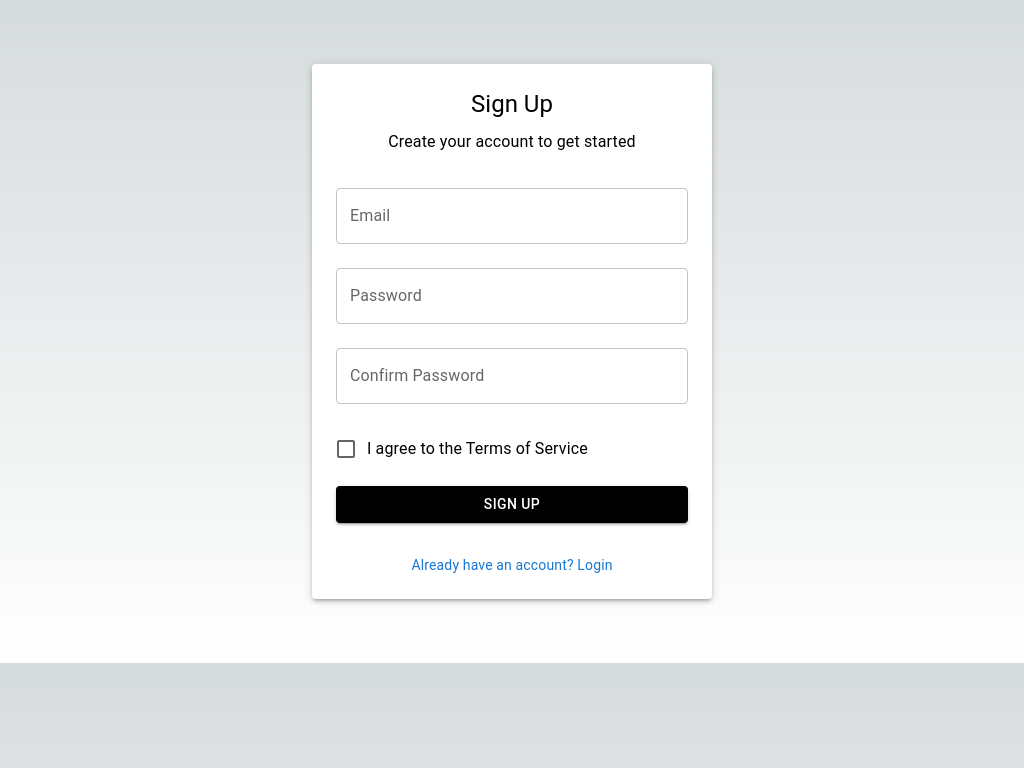
AuthForm Login Component - Negative Tests › 空のパスワードがエラーを引き起こす
Step 1. Type "test@example.com" into the field labelled "Email" → (512, 216), box [336, 188, 688, 244]
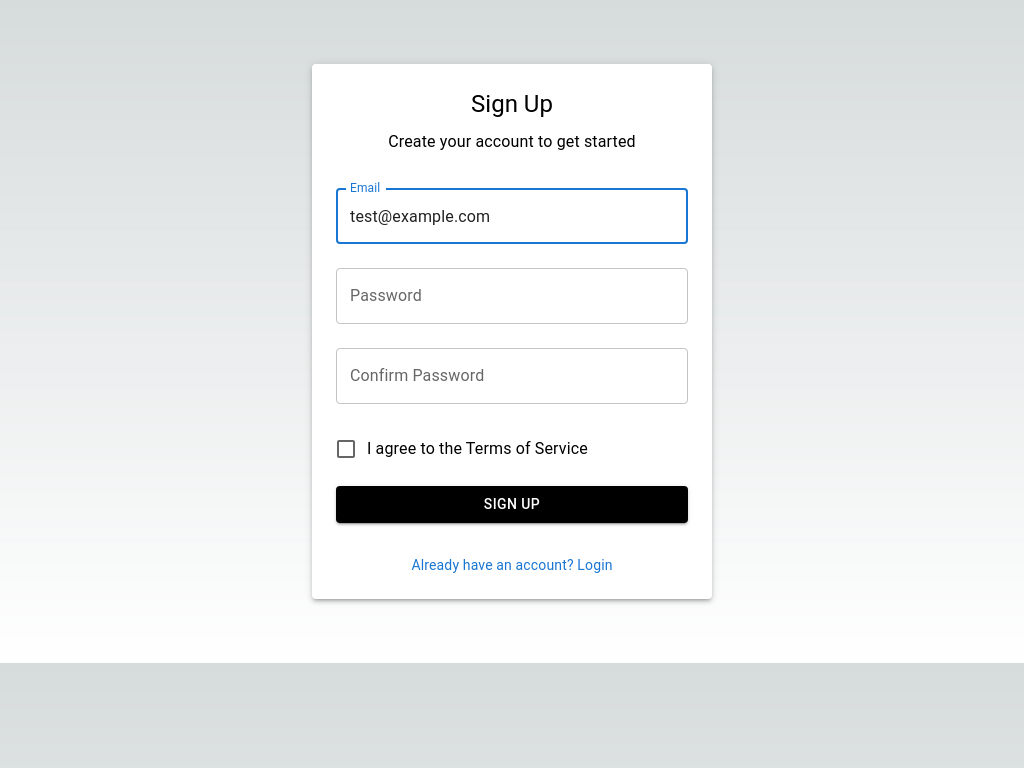
Note: パスワードを入力しない
Step 2. Click the button with test id "loginButton" → click(512, 505), box [336, 486, 688, 523]
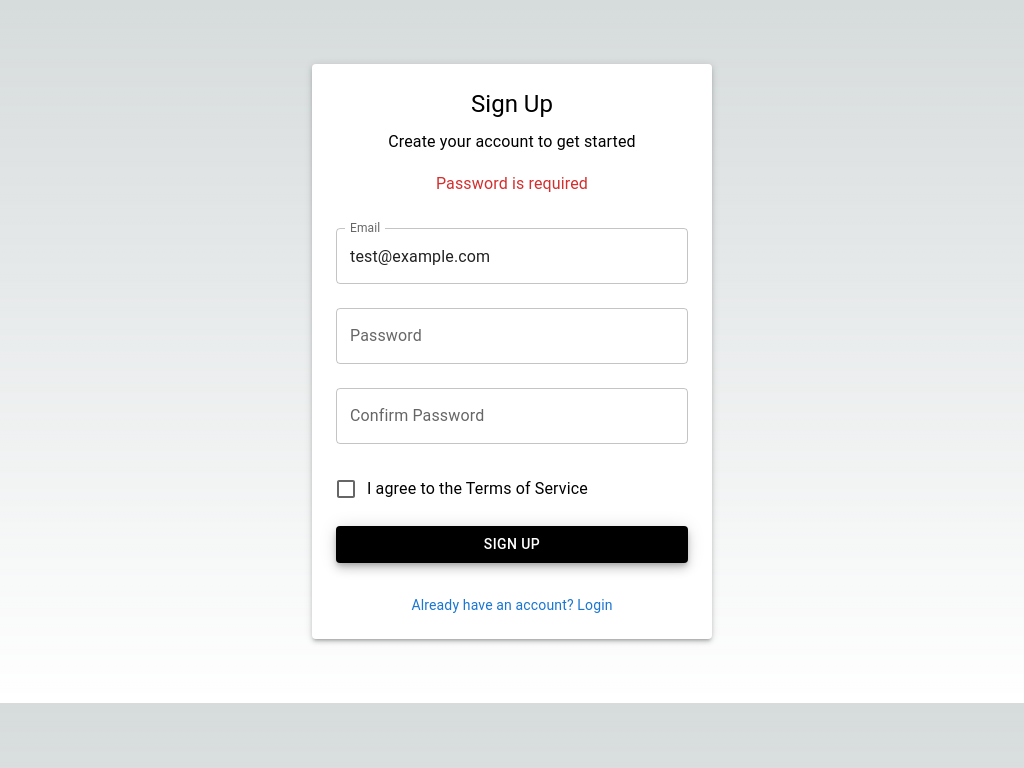
Expected: the text "Password is required" is shown, [436, 172, 588, 196]
